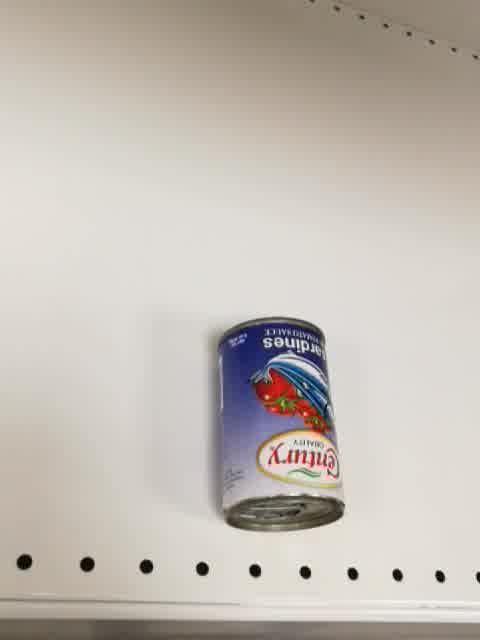sardine: (215, 316, 346, 533)
